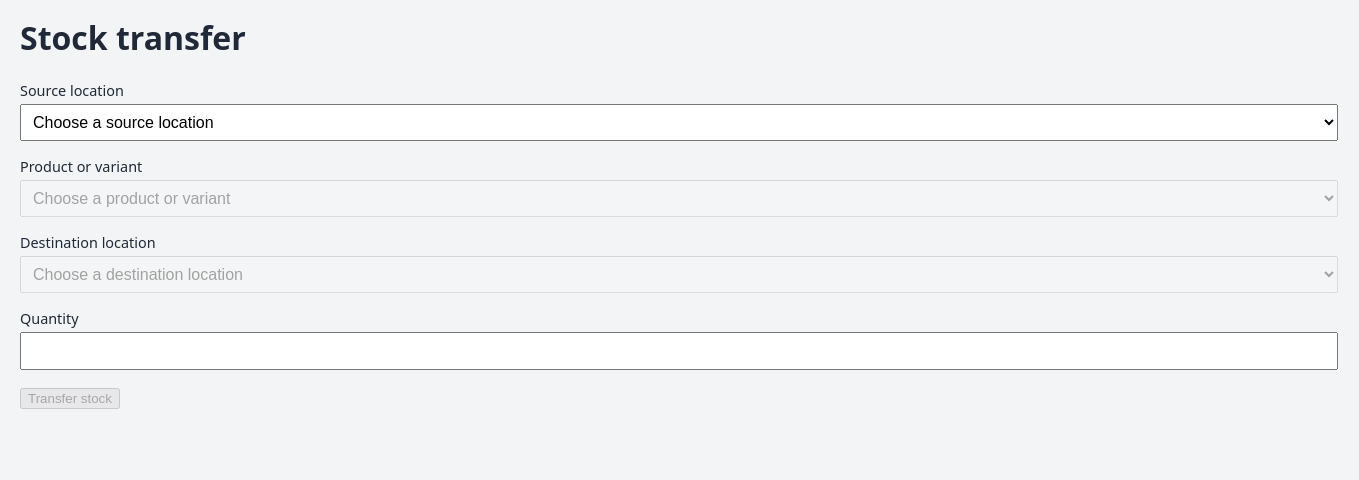
it: selects a variant and submits a transfer using the existing endpoint
The width and height of the screenshot is (1359, 480).
Expected: the heading "Stock transfer" is shown, [20,16,246,59]
Select "Chennai" in the dropdown labelled "Source location" at (679, 122), box [20,104,1338,141]
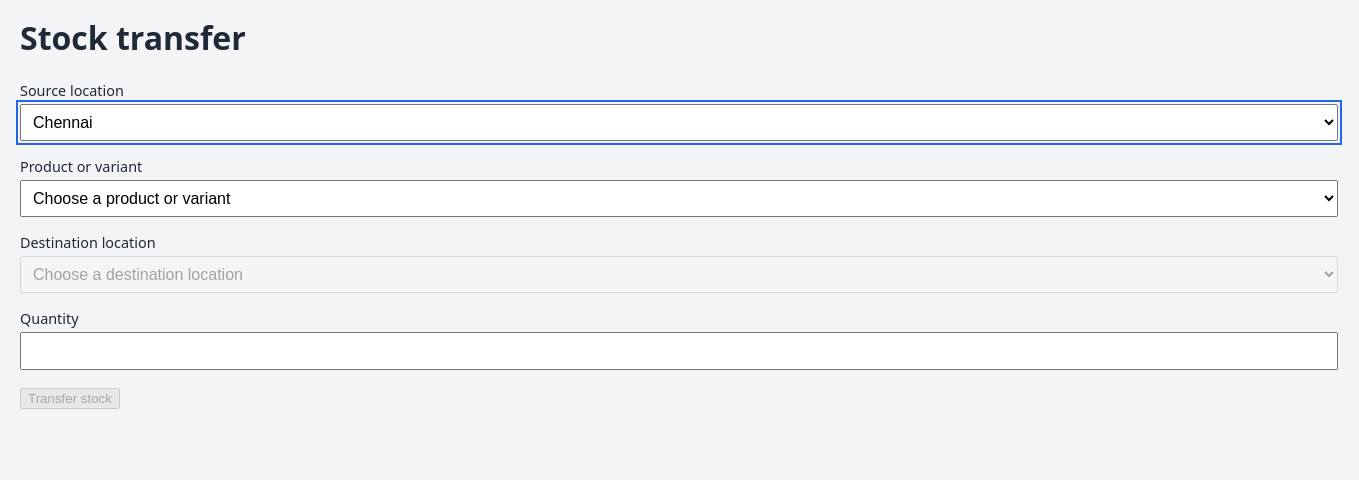
Select "Test Phone (PHONE-1-BLK)" in the dropdown labelled "Product or variant" at (679, 198), box [20,180,1338,217]
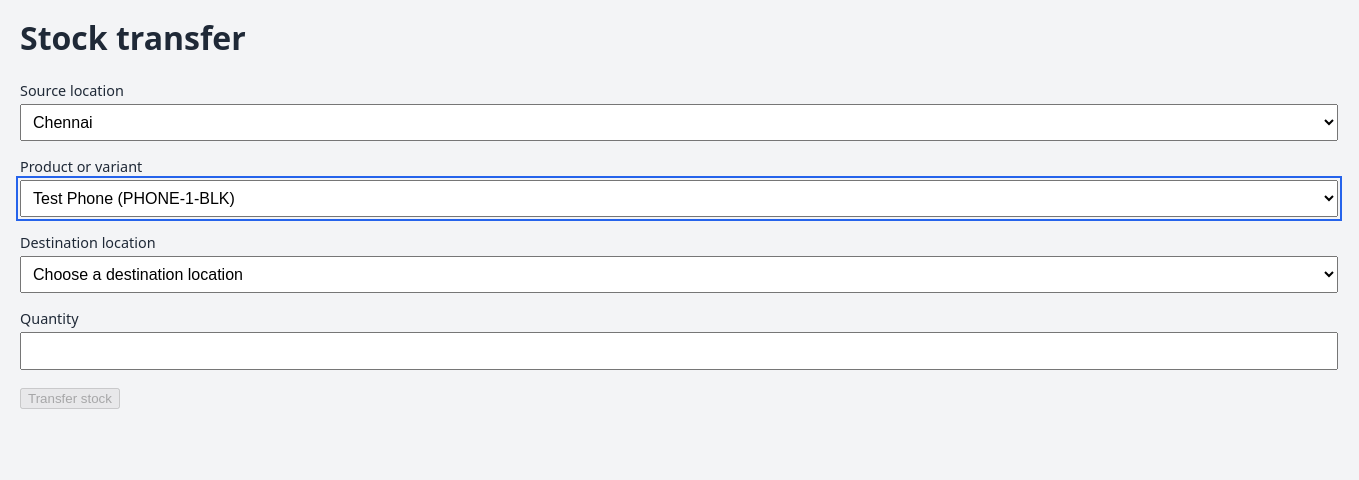
Select "Bengaluru" in the dropdown labelled "Destination location" at (679, 274), box [20,256,1338,293]
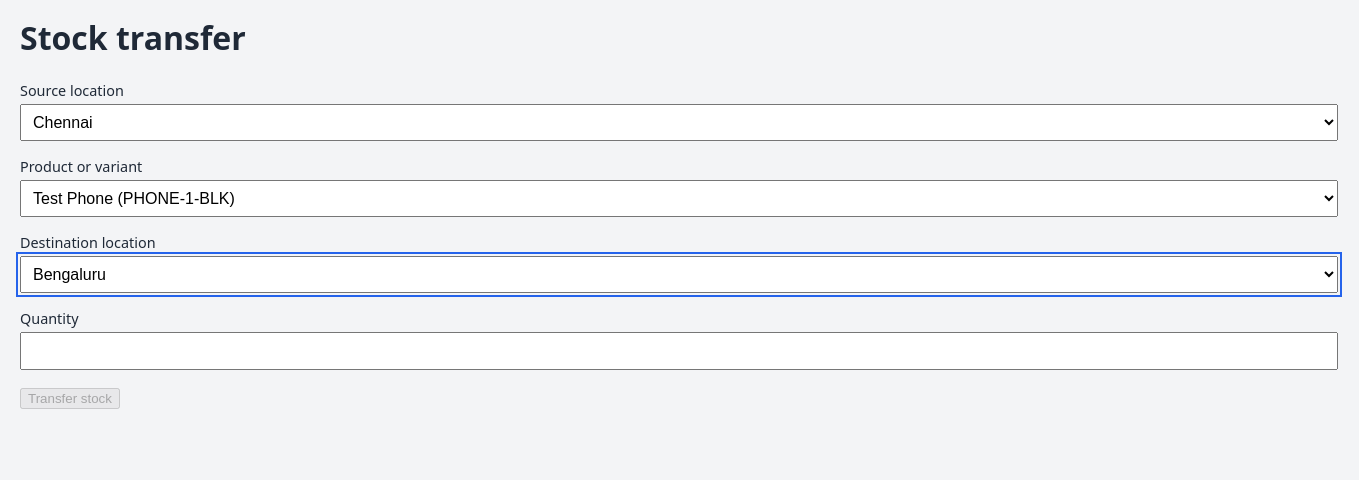
Type "2" into the number field labelled "Quantity" at (679, 351), box [20,332,1338,370]
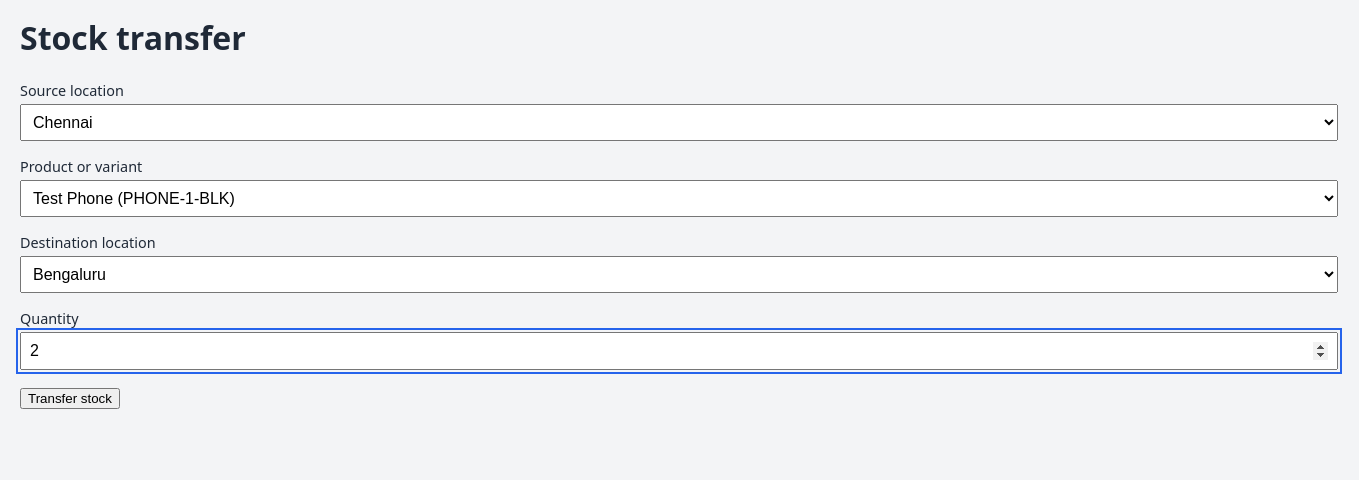
Click the button "Transfer stock" at (70, 398), box [20,388,120,409]
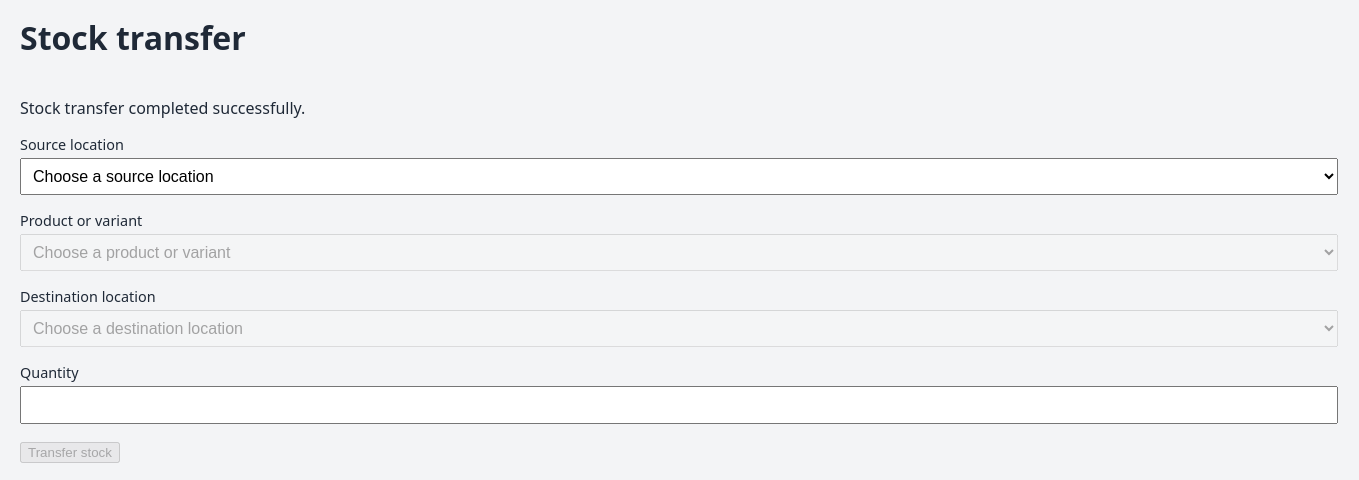
Result: the message reads "Stock transfer completed successfully." at [20,97,305,119]
